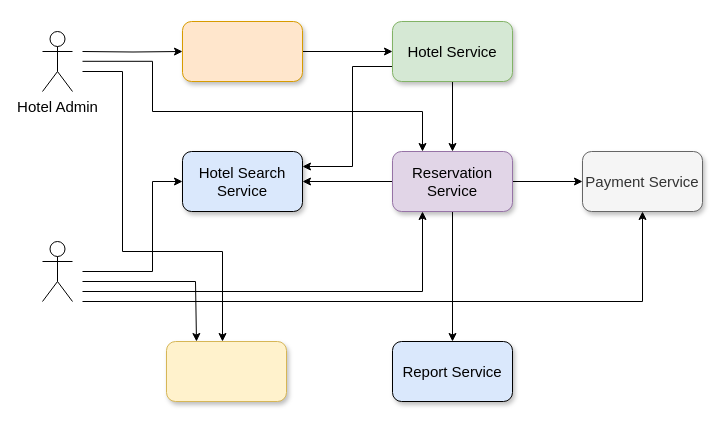
The diagram is 726 pixels wide and 426 high, and some of its shapes have lost their labels. Each missing label, with the centre of its shape:
Hotel Management Service: pixel 243 52
User: pixel 57 271
User Service: pixel 227 372
